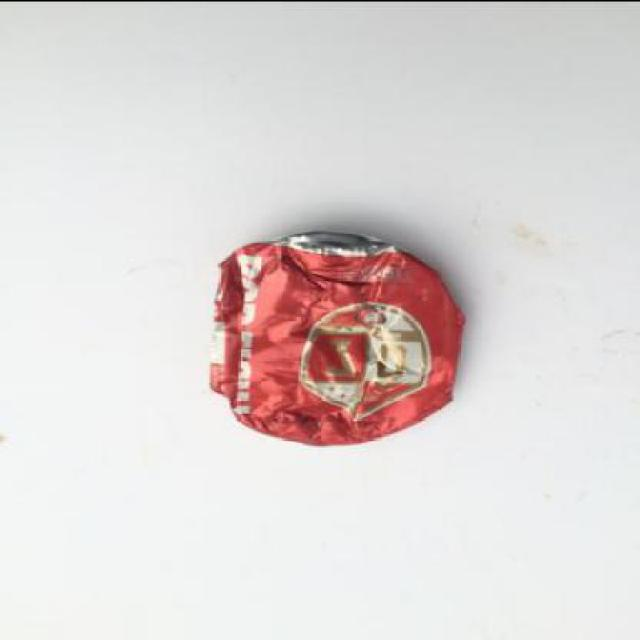METAL: (207, 228, 468, 447)
